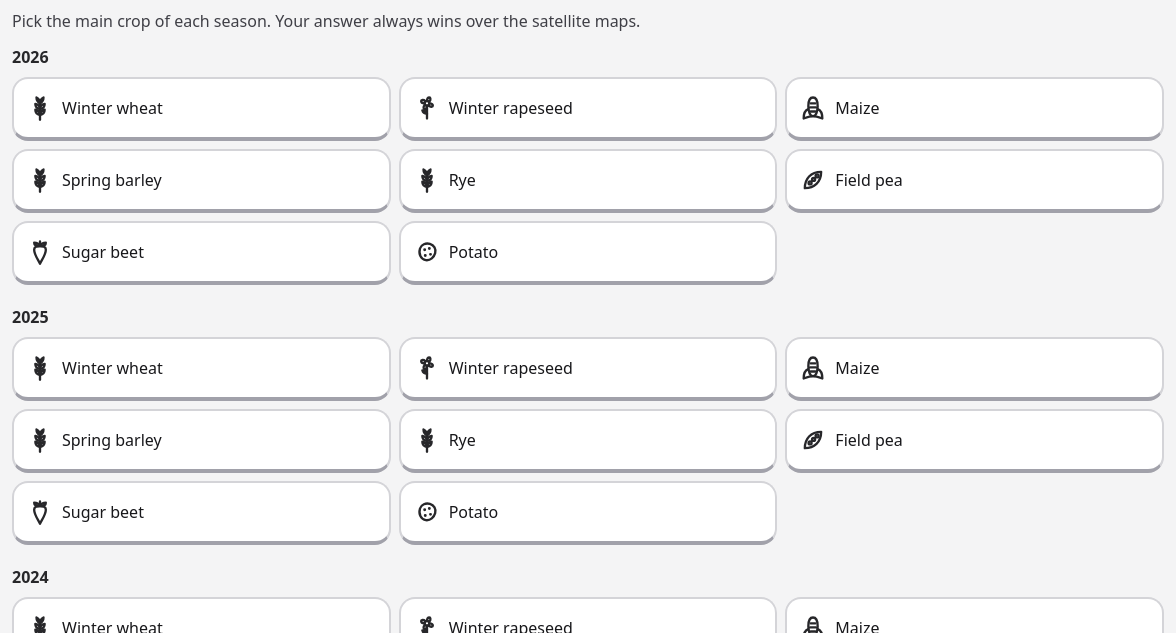
Test: CropsStep without a history (most of Poland) › needs at least two years before the farmer can continue
Click the radio button labelled "Winter wheat" below "2026" at (112, 108), box top-left (12, 77), bottom-right (391, 141)
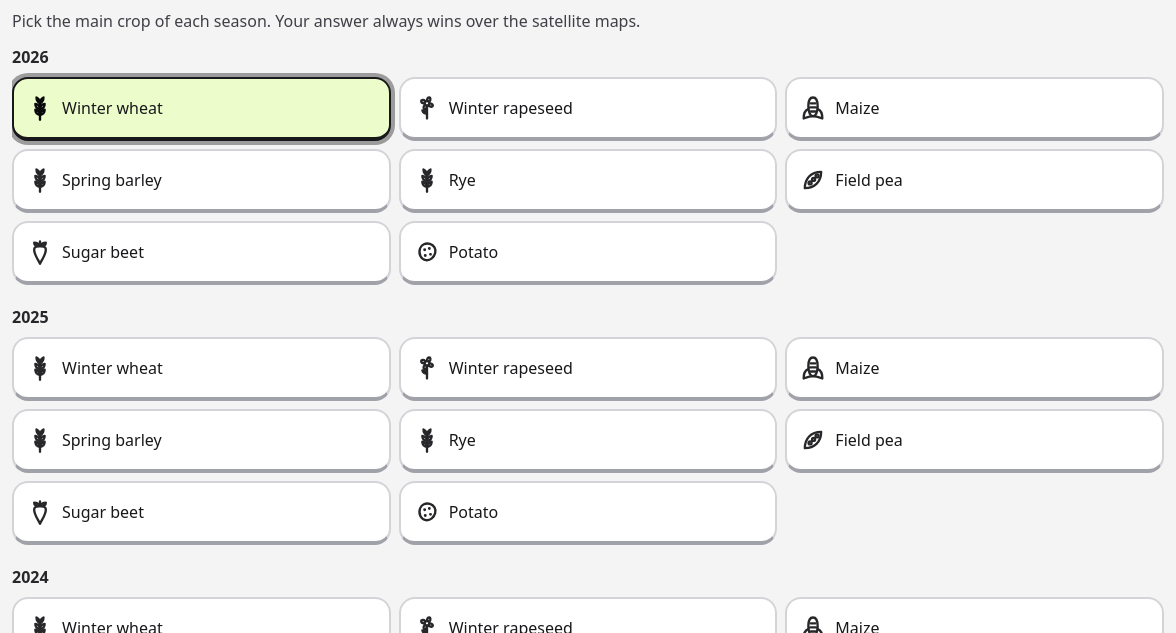
Click the 2nd radio button labelled "Winter rapeseed" at (511, 368), box top-left (399, 337), bottom-right (777, 401)
(page scrolled)
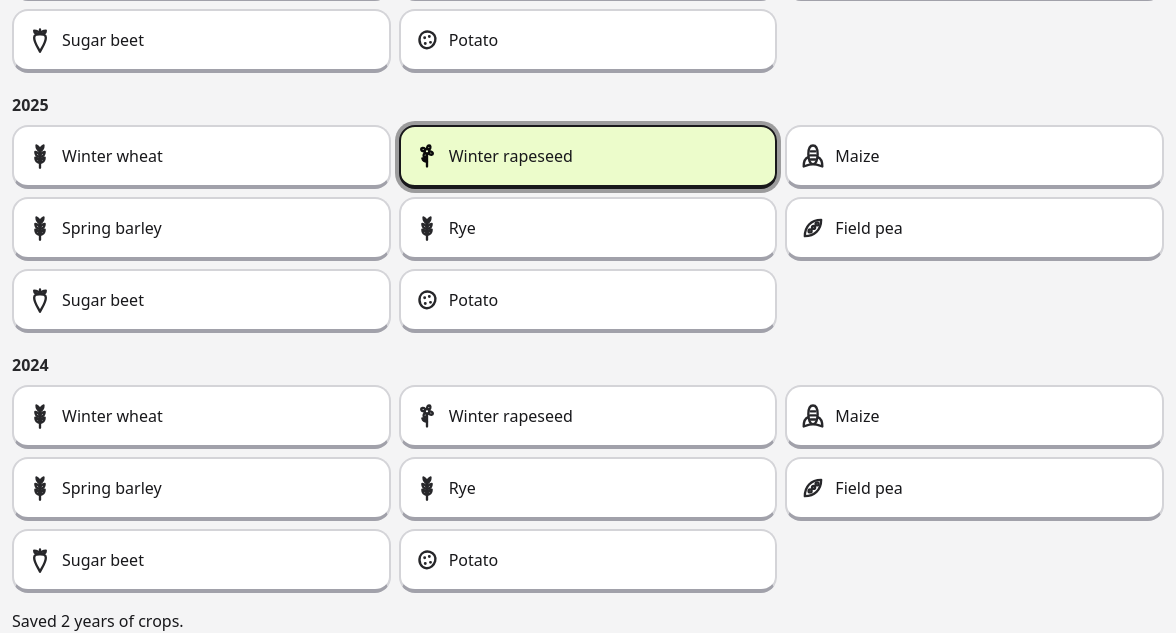
Check: the text "Saved 2 years of crops." is shown, box top-left (12, 610), bottom-right (184, 632)
